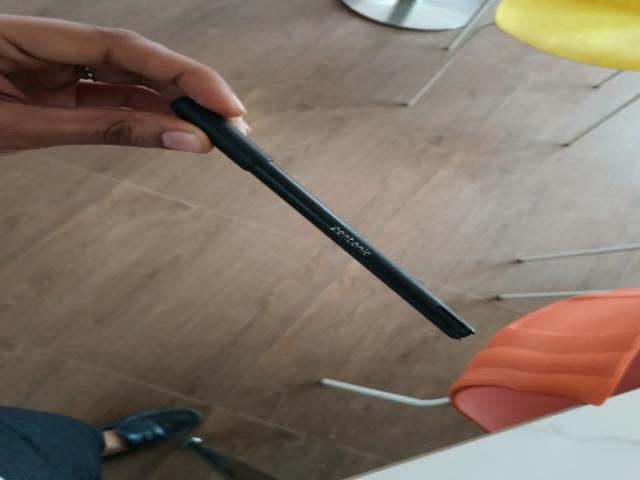PEN: (157, 77, 485, 359)
